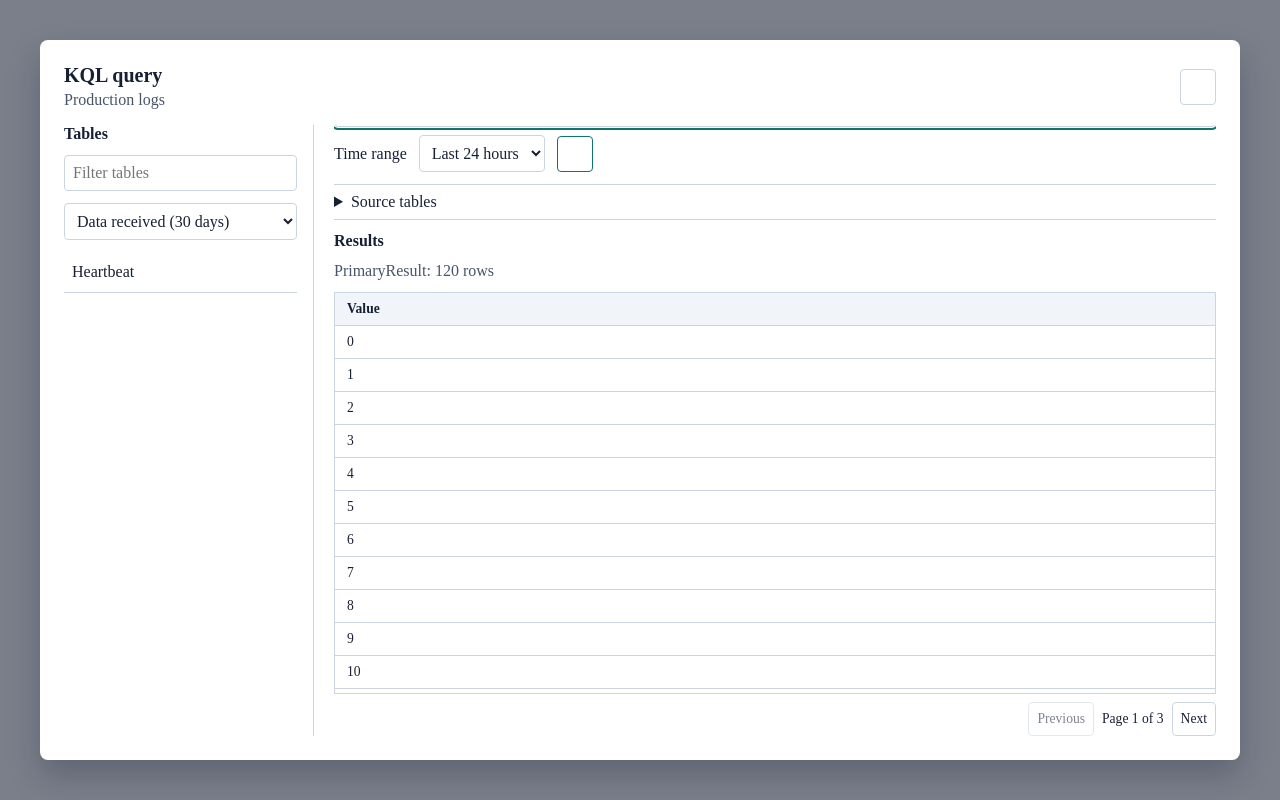
KqlComponent › paginates query results in groups of 50 rows
This screenshot has width=1280, height=800.
(page scrolled)
Click the button with aria-label "Next page": (1194, 719) [1172,702,1216,736]
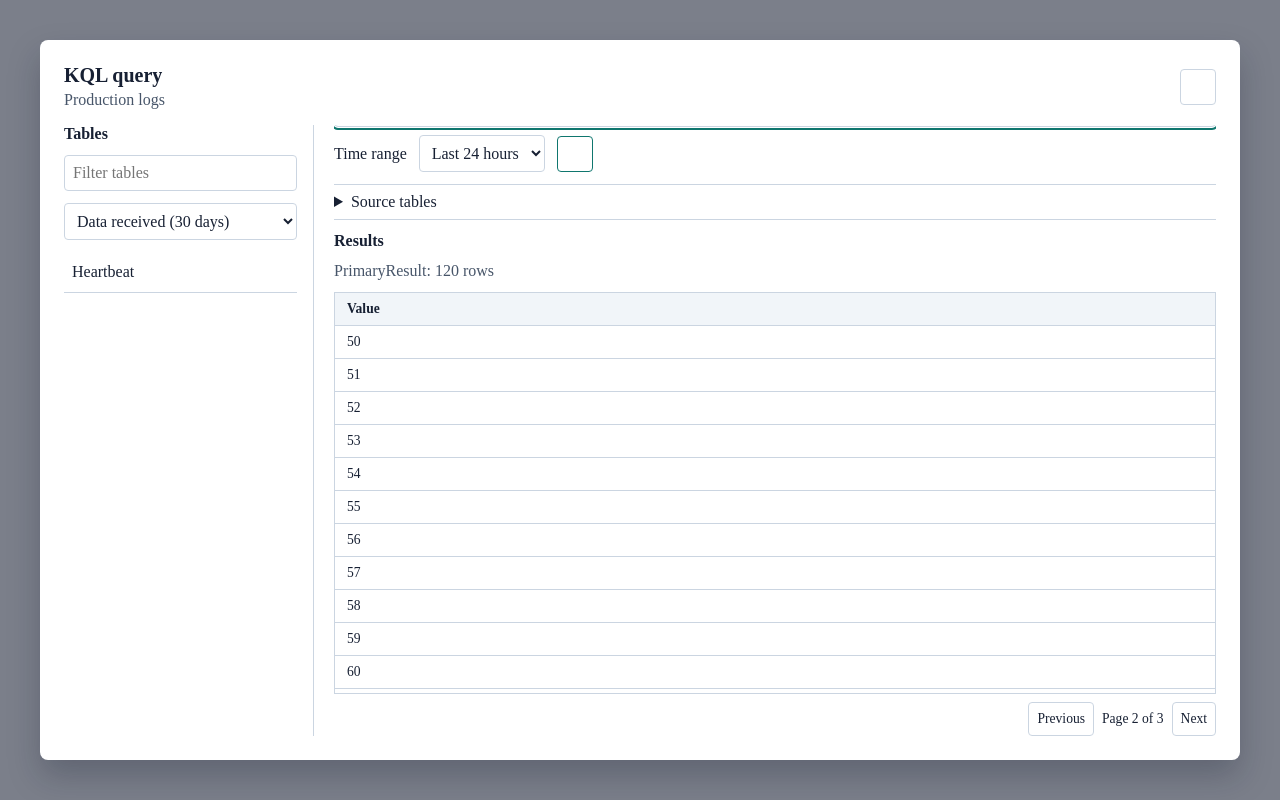
Now the navigation bar shows "Page 2 of 3", box [1102,711,1164,726]
